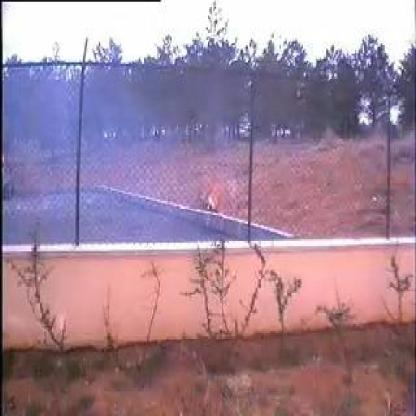-: (38, 81, 198, 240)
